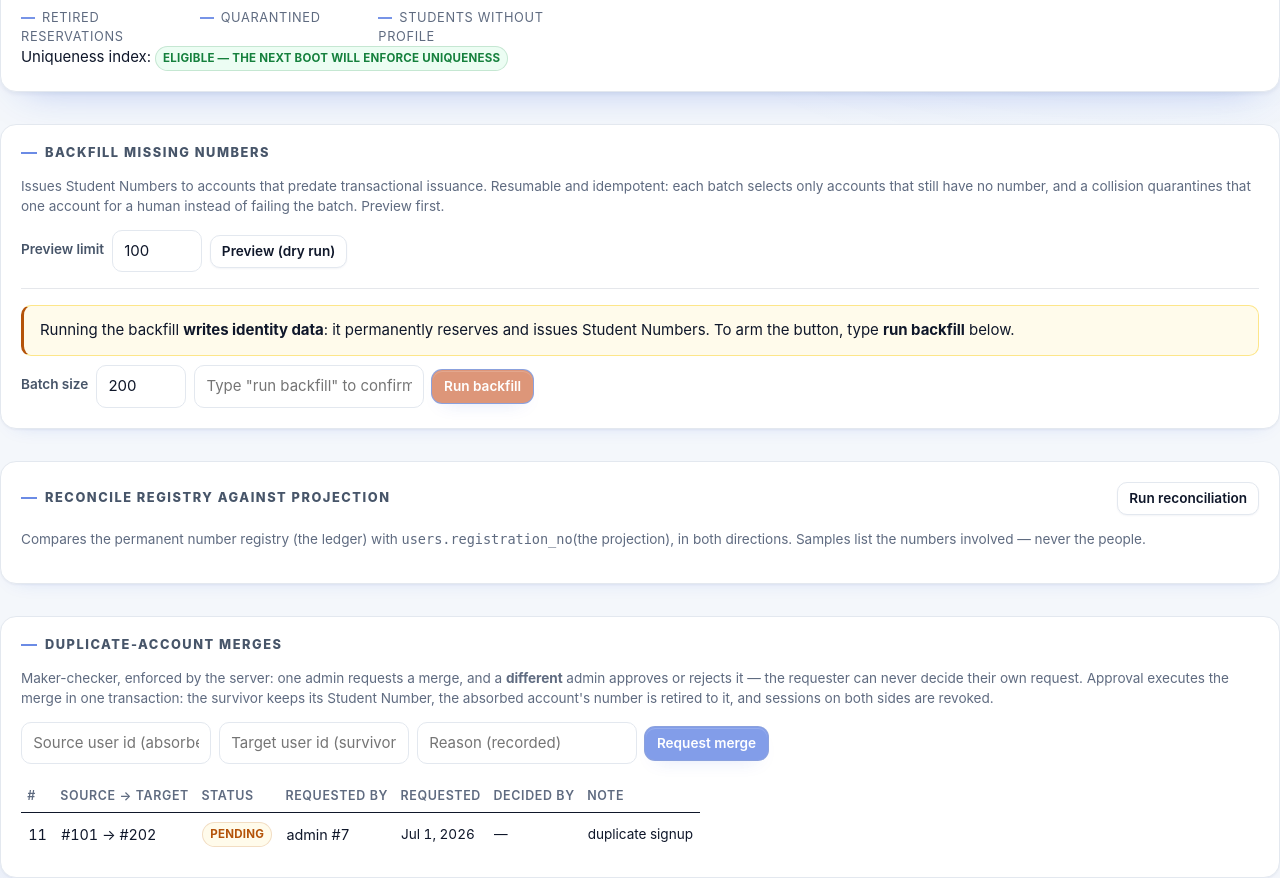
Test case: merge queue (maker-checker) › opens the per-table counts preview when a row is selected
(page scrolled)
Click the text "#101 → #202". click: click(125, 834)
box: [54, 812, 195, 857]
(page scrolled)
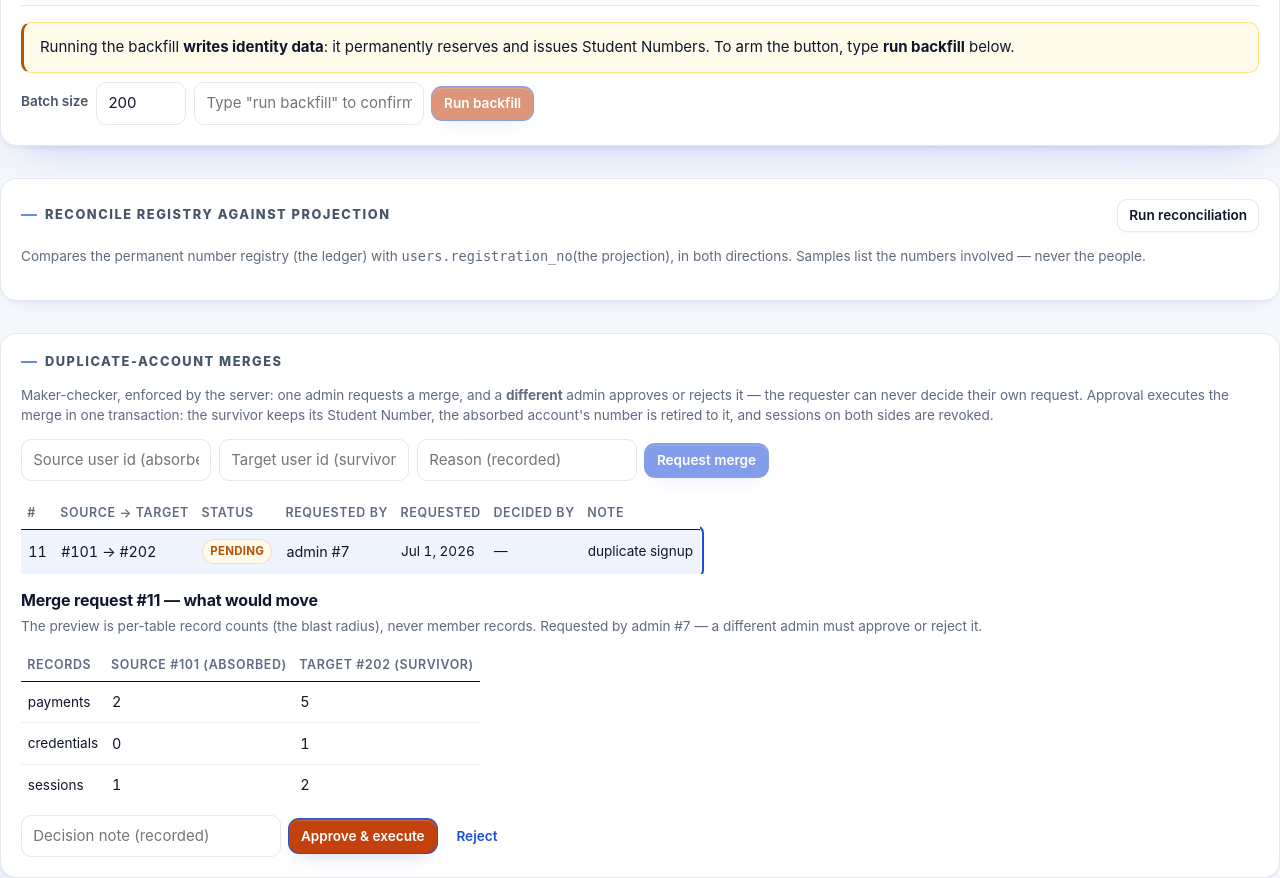
Check: the heading "Merge request #11 — what would move" is shown, box [21, 590, 318, 610]
Check: the column heading "Source #101 (absorbed)" is shown, box [105, 650, 293, 682]
Check: the column heading "Target #202 (survivor)" is shown, box [293, 650, 480, 682]
